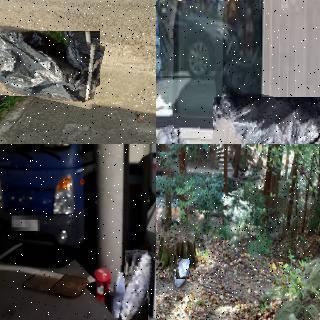Garbage: (0, 24, 102, 102), (208, 91, 320, 144), (120, 249, 152, 320), (110, 265, 127, 318), (177, 259, 191, 280), (174, 266, 186, 290)
